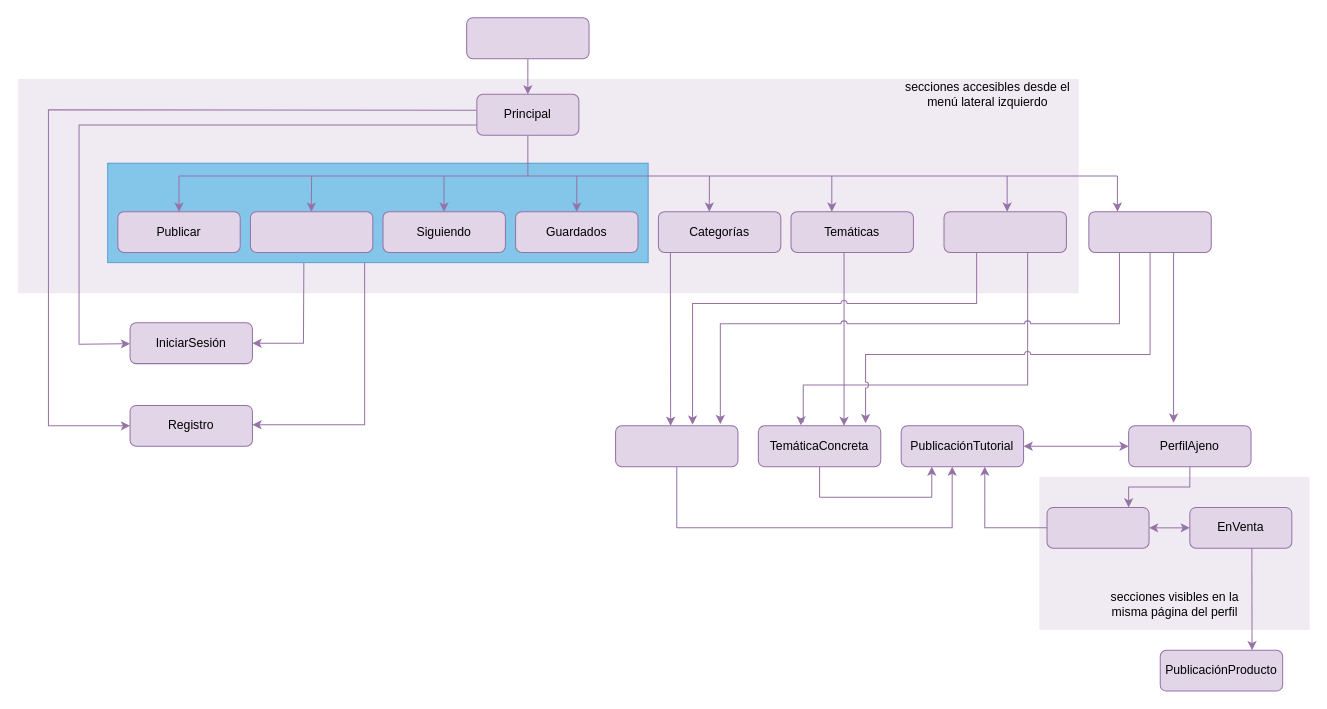
This 1327x709 diagram has some shape labels left out. The shapes that lost their labels are listed below. From the top down, each one's centre as x and y in pixels, then its label:
At (x=527, y=38): "Inicial".
At (x=311, y=231): "Muro".
At (x=1004, y=231): "Tendencias".
At (x=1149, y=231): "Resultado búsqueda".
At (x=676, y=446): "CategoríaConcreta".
At (x=1097, y=527): "Publicaciones".
